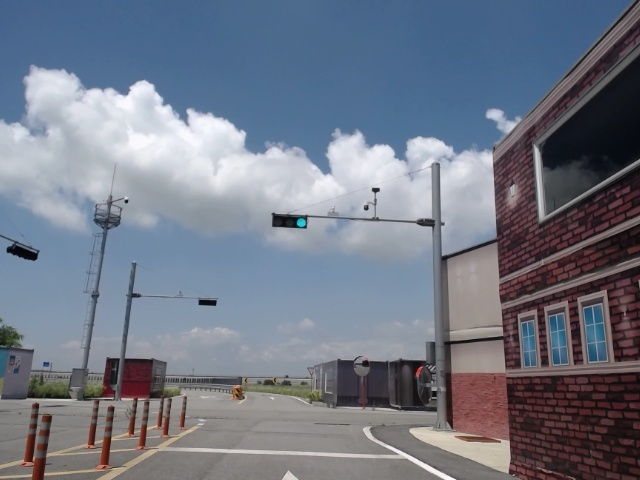green_3: (272, 212, 306, 229)
